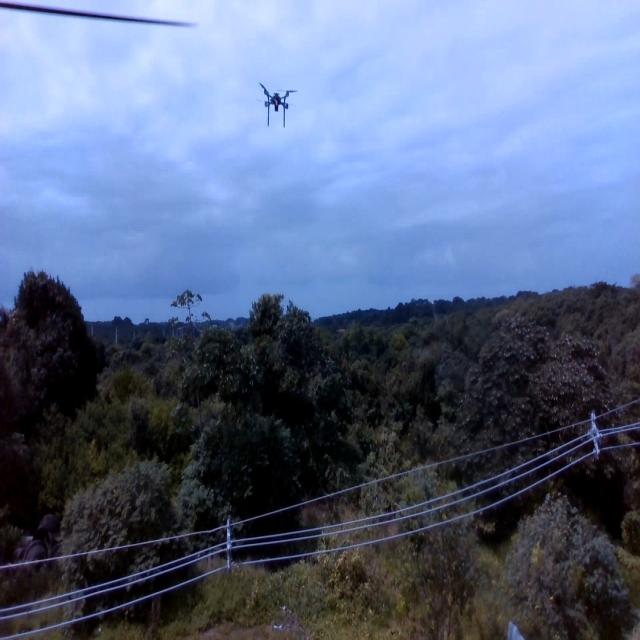-uav-: (248, 72, 305, 142)
